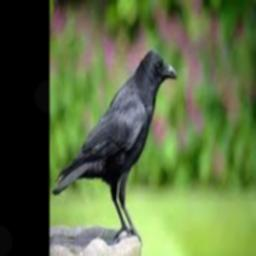Crow: (51, 48, 178, 242)
